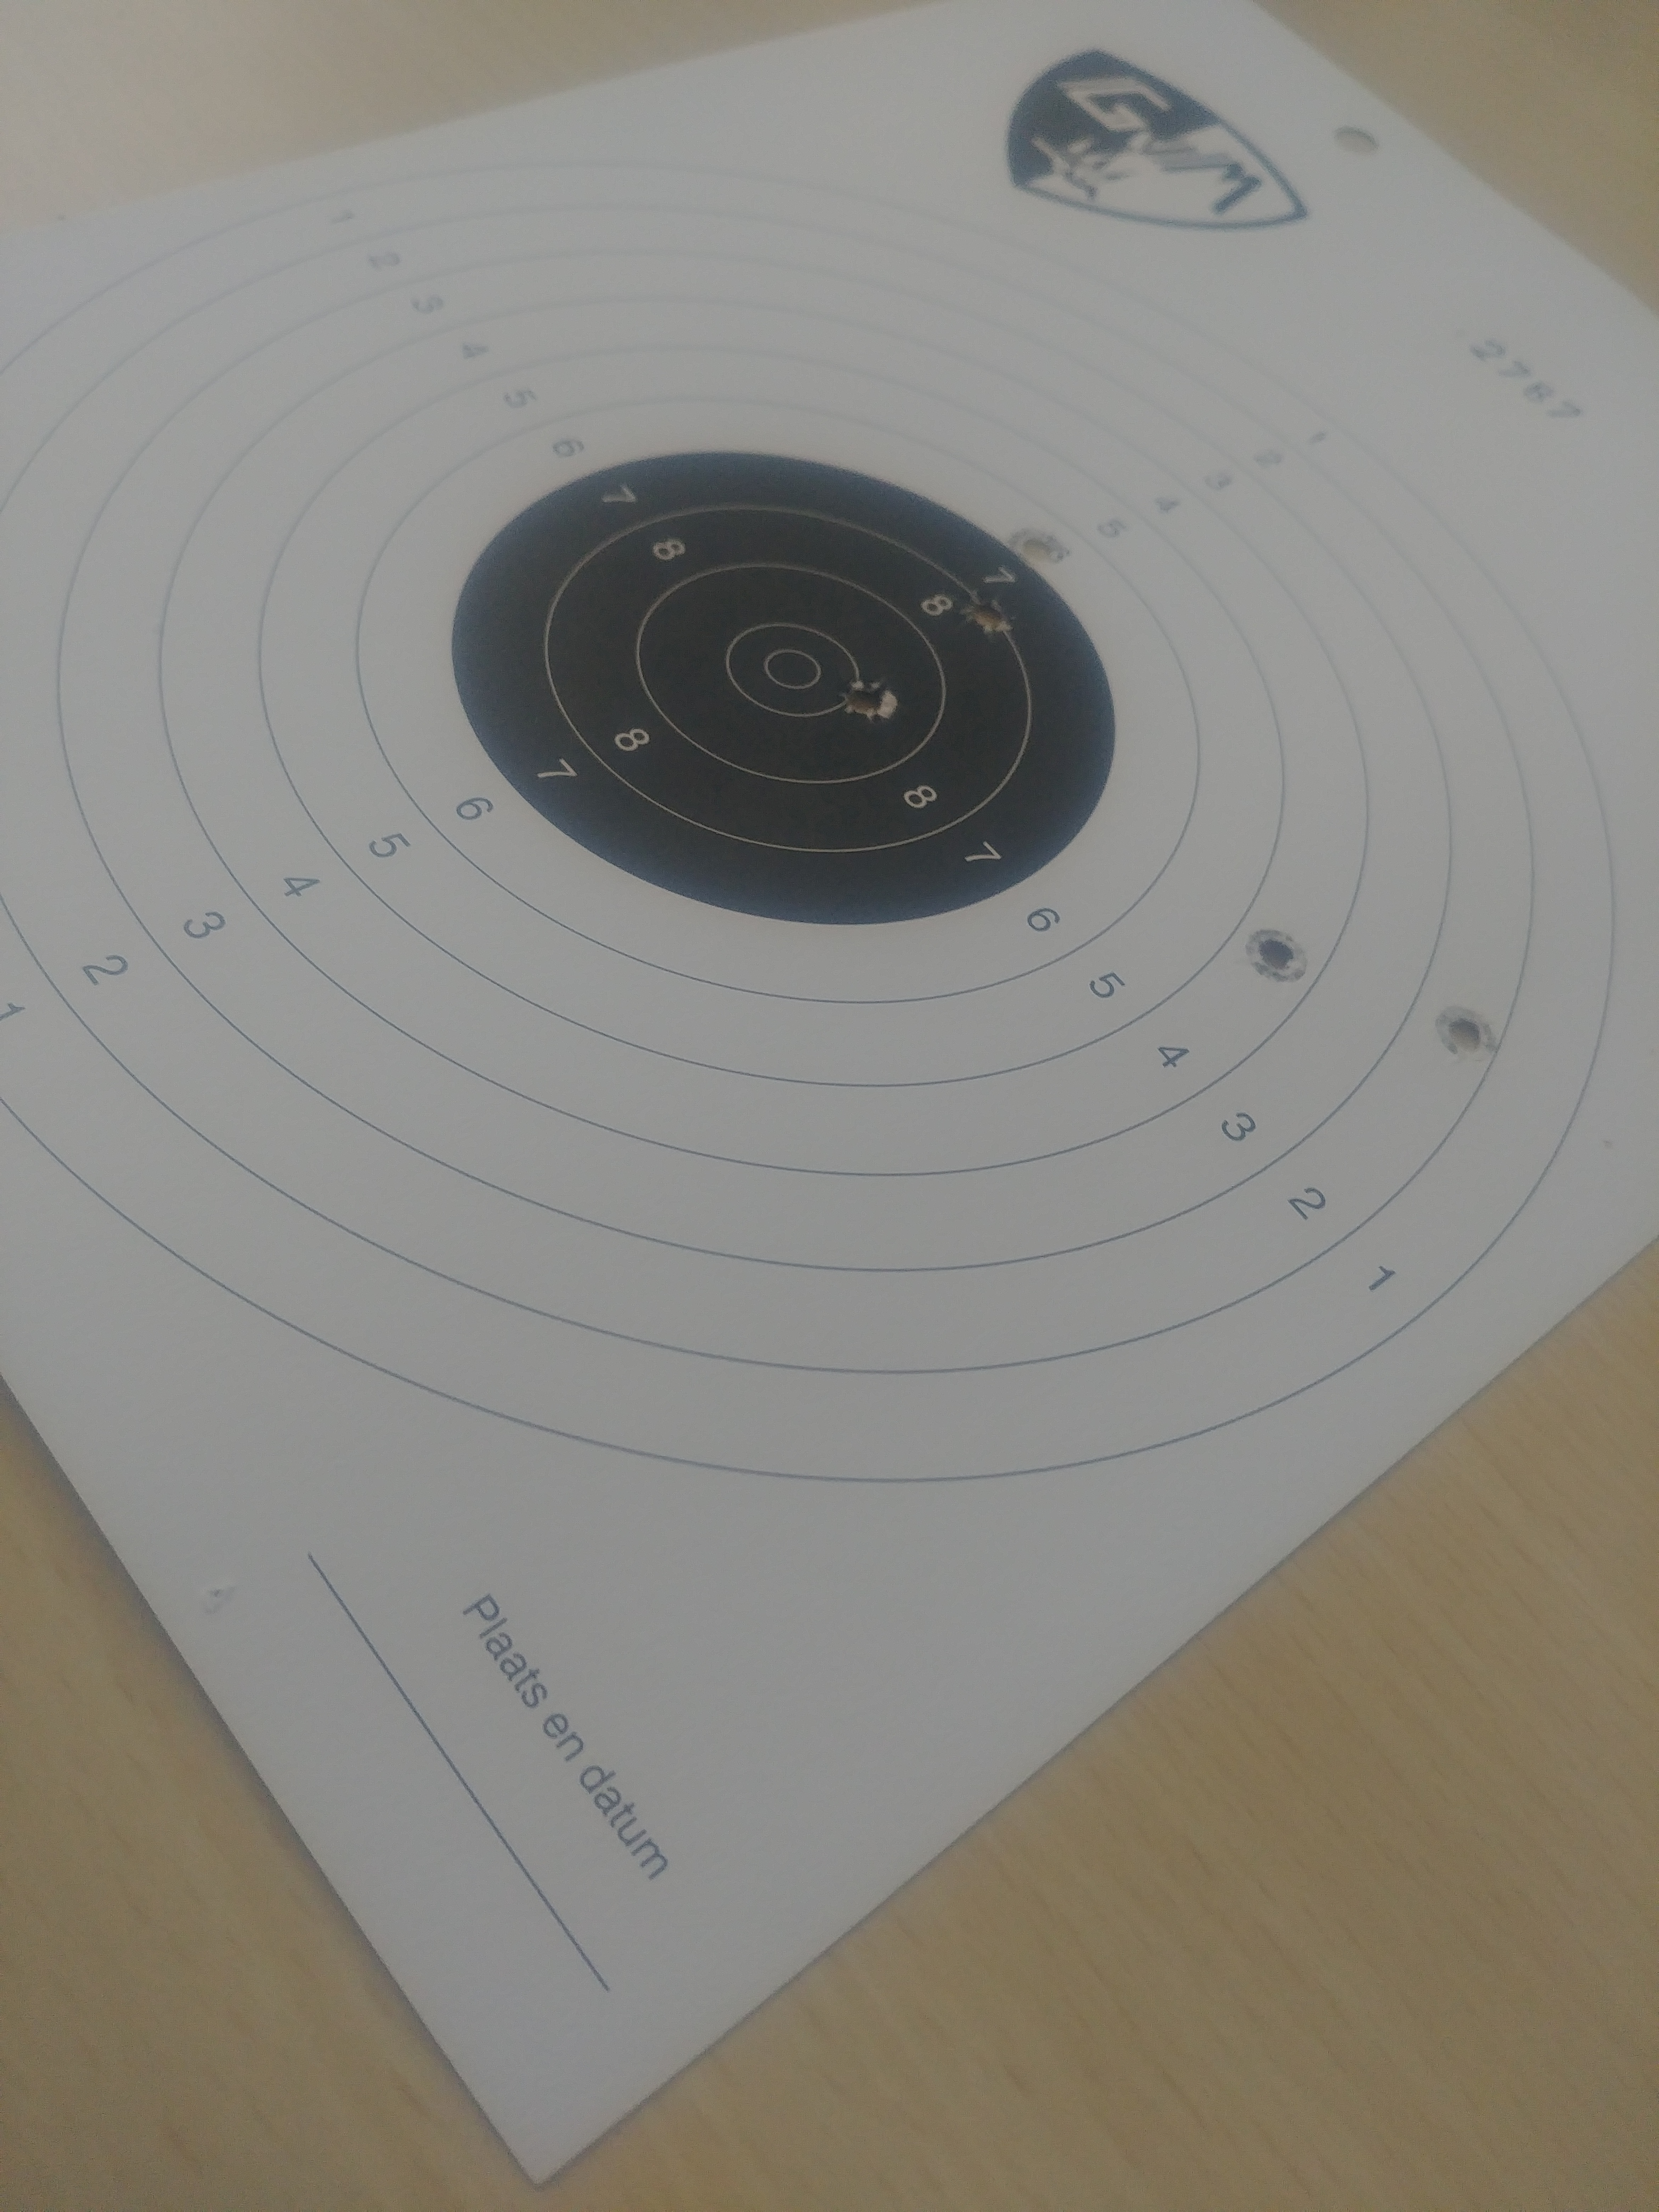center: (450, 451, 1115, 927)
out: (0, 160, 1617, 1482)
shot: (1434, 1003, 1500, 1064), (955, 587, 1018, 644), (1244, 928, 1309, 984), (838, 674, 901, 725), (1006, 528, 1072, 566)
target: (725, 624, 861, 718)
